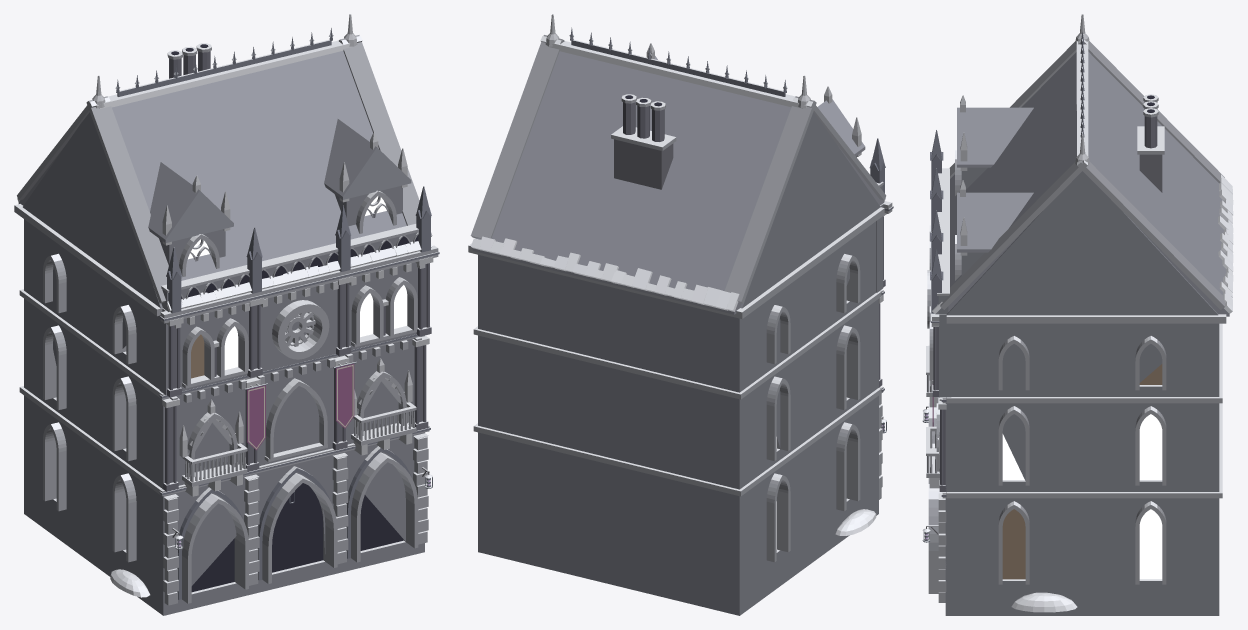
Rendered from AR_Cidade_Arcada.fbx.
3 renders of one model, left to right at view 1: azimuth 30°, elevation 25°; view 2: azimuth 150°, elevation 25°; view 3: azimuth 270°, elevation 25°, orthographic.
Parts seen in each view (by area): view 1: AR_Cidade_Arcada; view 2: AR_Cidade_Arcada; view 3: AR_Cidade_Arcada.
Boxes of the visible parts, left/top/right/bottom form: AR_Cidade_Arcada: left=14, top=14, right=439, bottom=615; AR_Cidade_Arcada: left=468, top=14, right=893, bottom=615; AR_Cidade_Arcada: left=922, top=14, right=1233, bottom=615.
Bounding box in the file's own units: 14.67 × 23.16 × 13.64.
